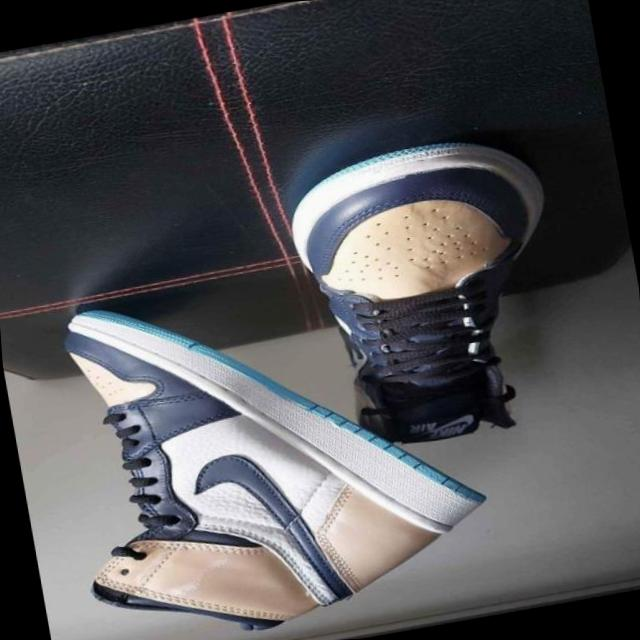nike_fake_jordan: (41, 243, 507, 640), (270, 122, 586, 500)
